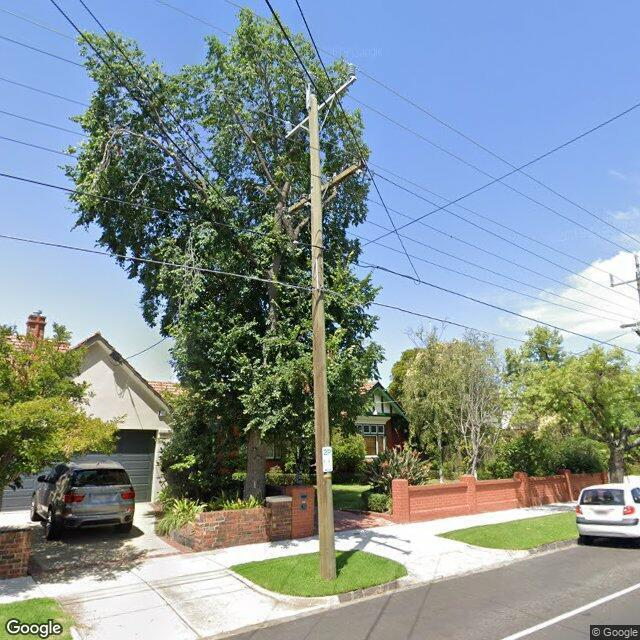HV-transmission: (284, 62, 358, 138)
crossarm: (282, 161, 366, 219), (283, 76, 358, 140)
timber-pole: (309, 93, 337, 582)
